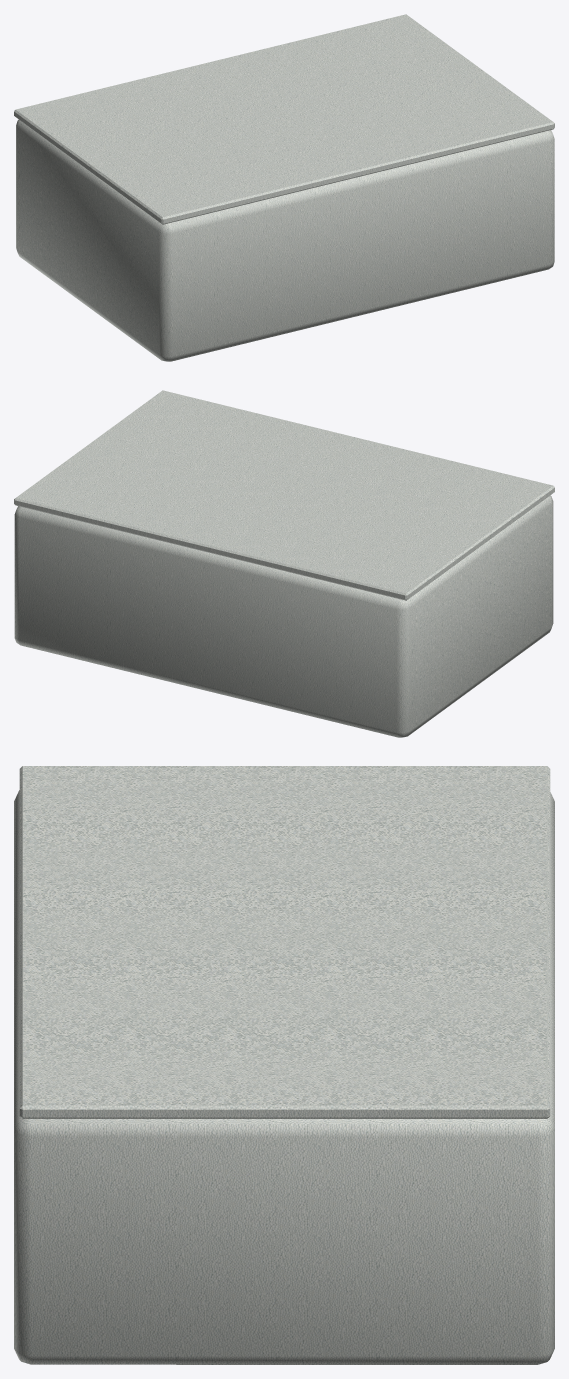
File: styrofoam_box_close.glb
3 views of the same model, one above another, from view 1: azimuth 30°, elevation 25°; view 2: azimuth 150°, elevation 25°; view 3: azimuth 270°, elevation 25° (orthographic). The views are drawn at different scales.
Parts seen in each view (by area): view 1: display.styrofoam.single; view 2: display.styrofoam.single; view 3: display.styrofoam.single.
Part boxes in pixels (x1,y1,x2,y2): display.styrofoam.single: (14, 14, 554, 361); display.styrofoam.single: (14, 390, 554, 737); display.styrofoam.single: (14, 766, 554, 1364).
Size of the model in its own units: 0.4689 by 0.1679 by 0.3123.
1 material, 1 textured.
